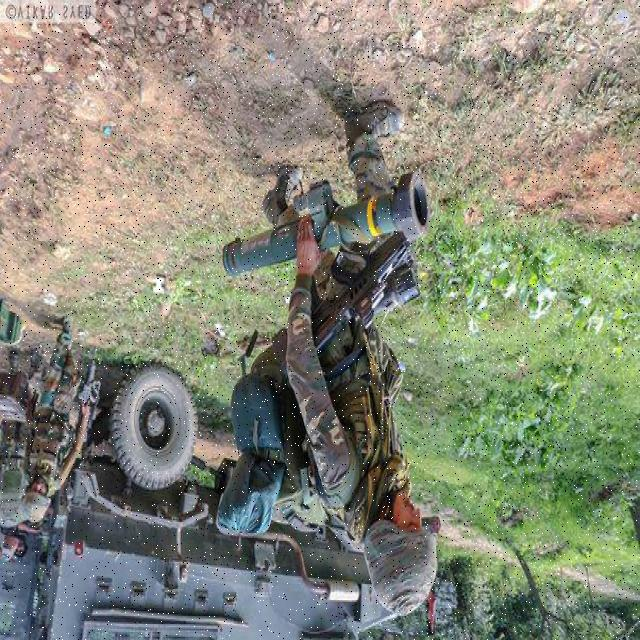bazooka: (221, 167, 436, 283)
